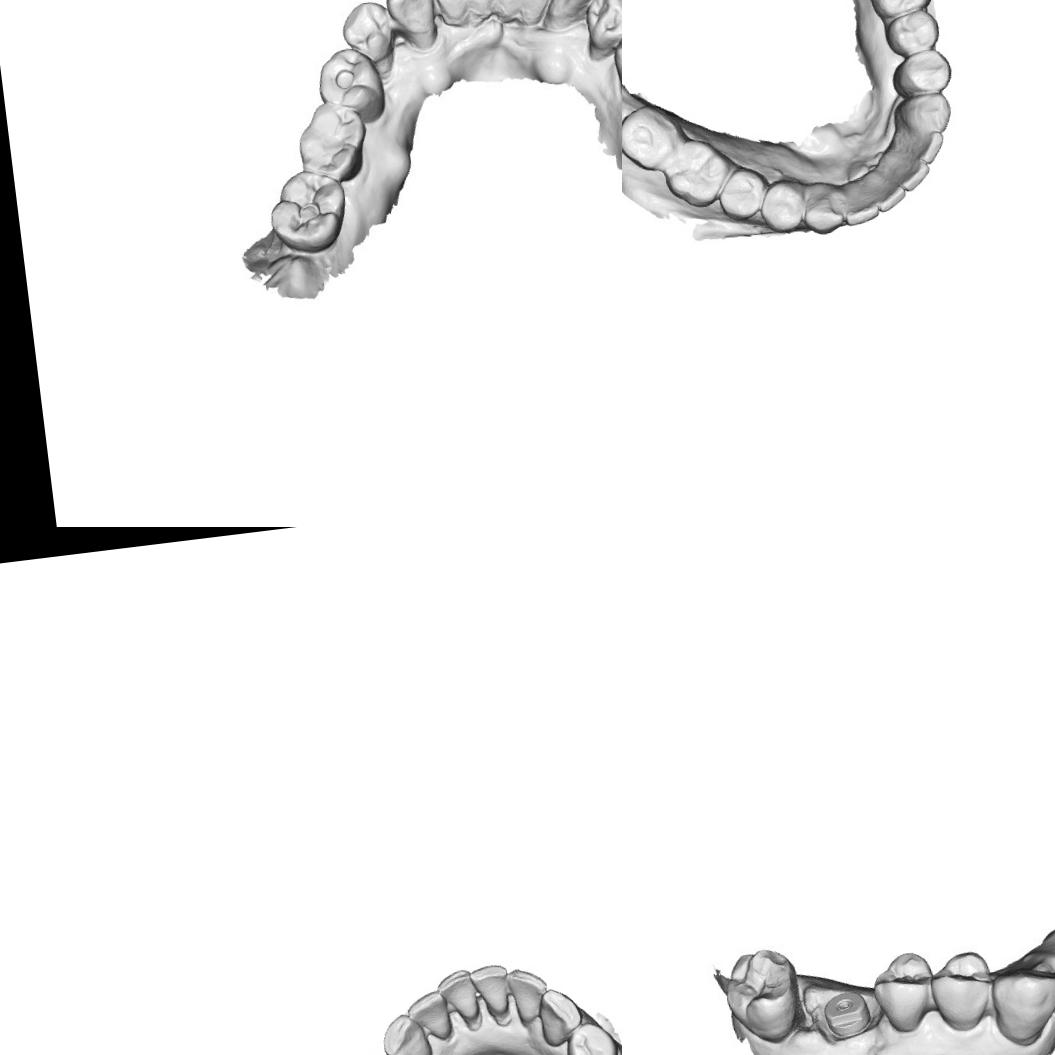canine: (986, 962, 1055, 1053), (534, 984, 586, 1050), (894, 88, 954, 140), (799, 179, 847, 238), (384, 0, 442, 46), (377, 1010, 435, 1055), (537, 0, 601, 28)
implant: (818, 984, 876, 1042)
incisor: (402, 988, 455, 1048), (432, 964, 482, 1026), (504, 963, 552, 1025), (465, 961, 513, 1020), (837, 176, 883, 229), (862, 167, 908, 216), (894, 128, 948, 169), (884, 152, 934, 196), (418, 0, 474, 26), (456, 0, 503, 28), (489, 0, 539, 18)
molar: (721, 943, 808, 1048), (266, 169, 358, 255), (657, 134, 737, 212), (294, 103, 367, 180), (622, 97, 686, 175), (863, 0, 936, 24)
premolar: (922, 941, 996, 1040), (867, 944, 940, 1037), (313, 47, 384, 112), (337, 0, 398, 75), (714, 162, 774, 225), (882, 5, 943, 60), (755, 176, 808, 238), (891, 46, 954, 98), (561, 1016, 622, 1055), (581, 0, 622, 54)
